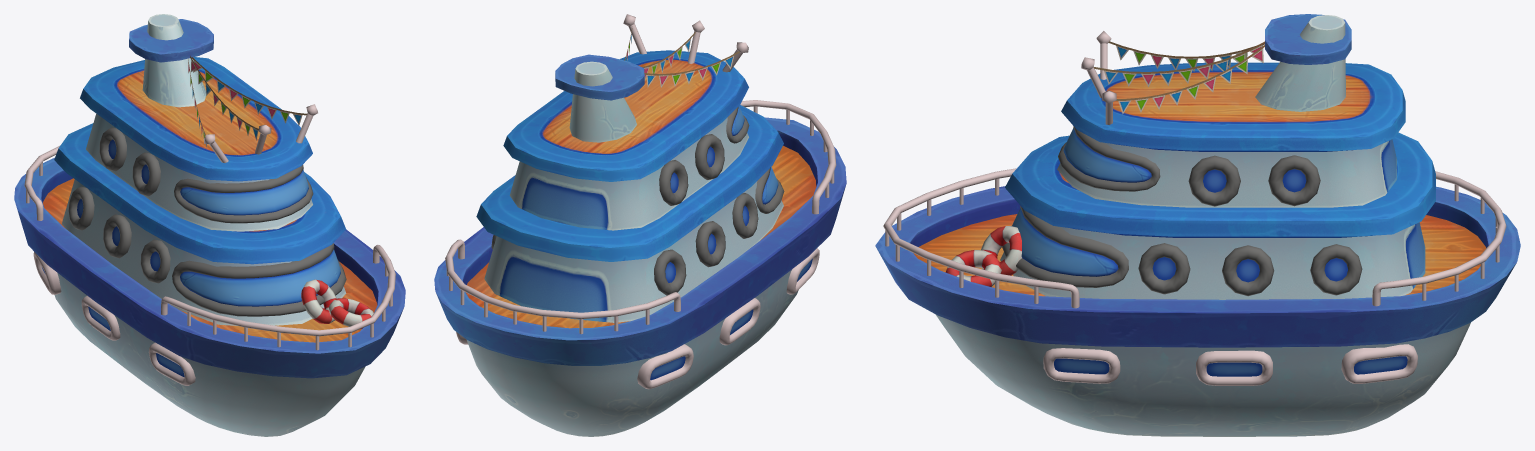
The model's file is Ship_Cruise.fbx.
The picture shows the model from 3 angles, left to right: view 1: azimuth 30°, elevation 25°; view 2: azimuth 150°, elevation 25°; view 3: azimuth 270°, elevation 25°; orthographic projection. The views are drawn at different scales.
Visible parts, largest first — view 1: Ship_Cruise; view 2: Ship_Cruise; view 3: Ship_Cruise.
Part boxes in pixels (bbox=[...]): Ship_Cruise: bbox=[14, 14, 405, 436]; Ship_Cruise: bbox=[434, 14, 846, 436]; Ship_Cruise: bbox=[875, 14, 1520, 436].
Bounding box in the file's own units: 200 × 268 × 403.
1 material, 1 textured.
